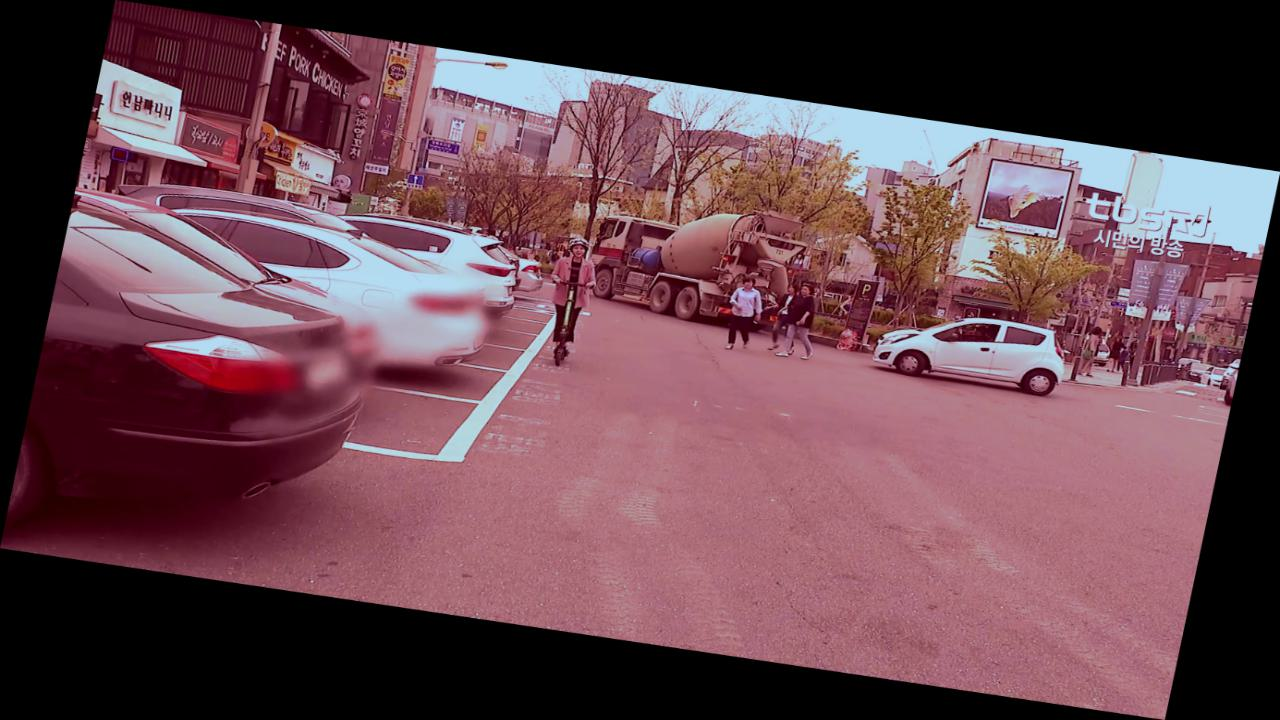helmet: (532, 231, 611, 370)
